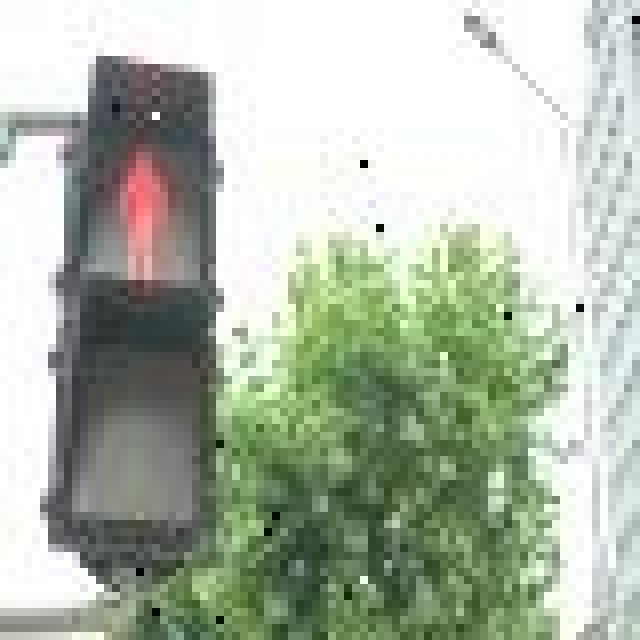redlight: (32, 80, 232, 552)
